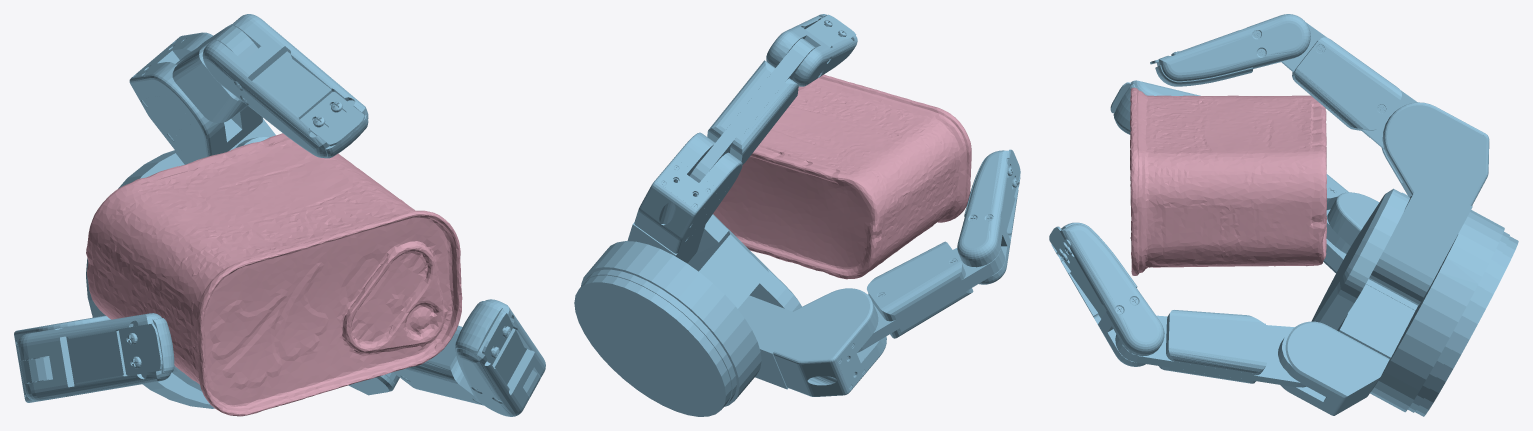
The picture shows the model from 3 angles, left to right: view 1: azimuth 30°, elevation 25°; view 2: azimuth 150°, elevation 25°; view 3: azimuth 270°, elevation 25°; orthographic projection. The views are drawn at different scales.
Visible parts, largest first — view 1: potted_meat_can.stl, world; view 2: world, potted_meat_can.stl; view 3: world, potted_meat_can.stl.
Boxes of the visible parts, box(x1,y1,x2,y2) form: potted_meat_can.stl: box(86, 133, 462, 416); world: box(14, 14, 545, 416); world: box(574, 14, 1020, 416); potted_meat_can.stl: box(713, 74, 971, 279); world: box(1049, 14, 1518, 416); potted_meat_can.stl: box(1130, 87, 1326, 275).
Size of the model in its own units: 0.1763 by 0.1722 by 0.1991.
